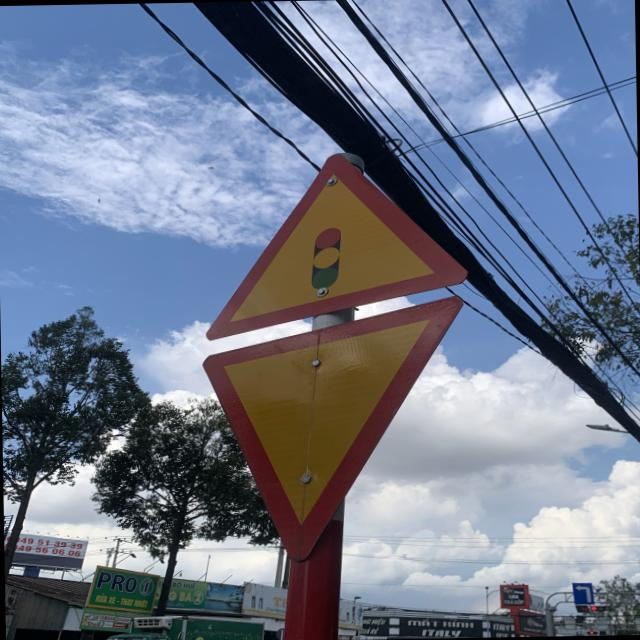Duong_Co_Go_Giam_Toc: (197, 150, 466, 344)
Gioi_Han_Toc_Do_25: (212, 306, 474, 560)
